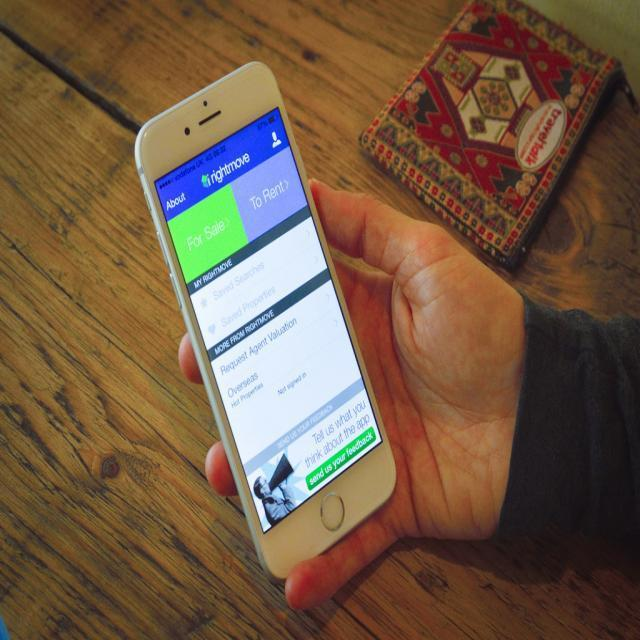Phone: (135, 56, 400, 581)
